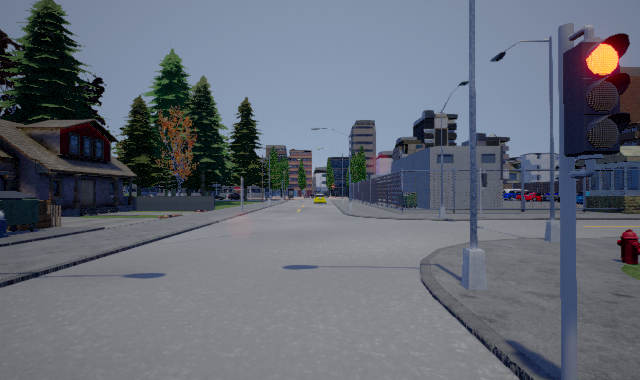traffic_light: (563, 31, 630, 156)
vehicle: (314, 193, 327, 204)
